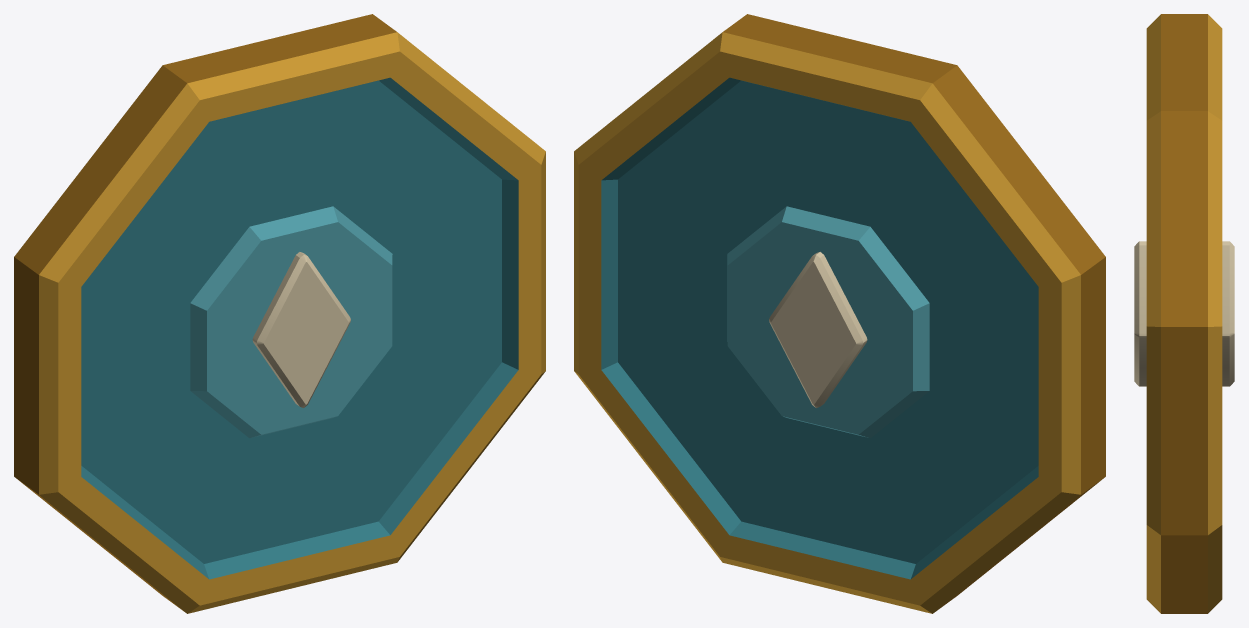
Rendered from Coin_02.glb.
The picture shows the model from 3 angles, left to right: view 1: azimuth 30°, elevation 25°; view 2: azimuth 150°, elevation 25°; view 3: azimuth 270°, elevation 25°; orthographic projection. The views are drawn at different scales.
Visible parts, largest first — view 1: Coin_02; view 2: Coin_02; view 3: Coin_02.
Boxes of the visible parts, <box> form: Coin_02: <box>14,14,545,613</box>; Coin_02: <box>574,14,1105,613</box>; Coin_02: <box>1134,14,1234,613</box>.
Bounding box in the file's own units: 1.75 × 1.75 × 0.316.
